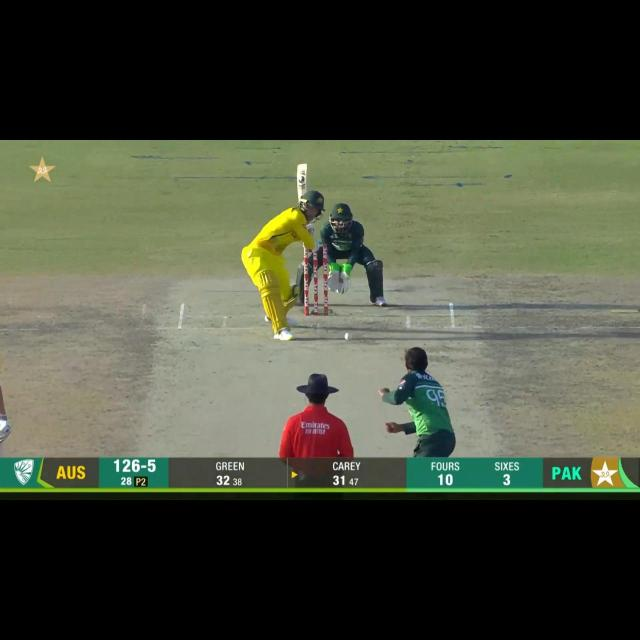bat: (296, 162, 308, 205)
toe: (295, 162, 309, 176)
